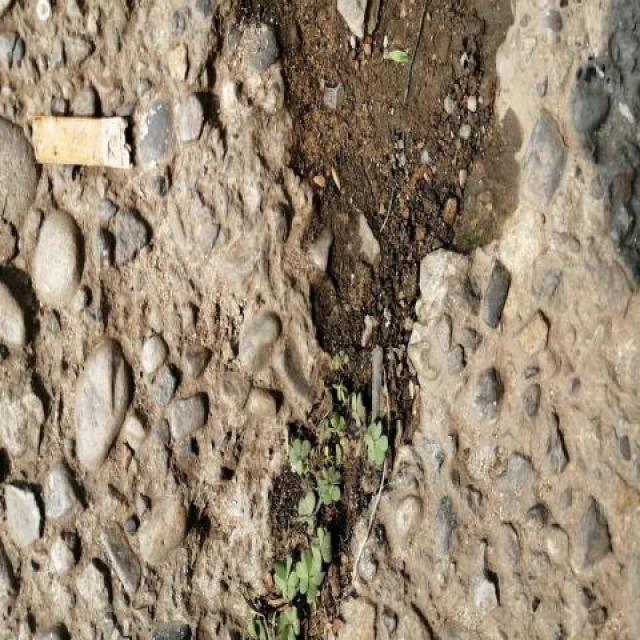non-organic waste: (27, 109, 142, 172)
